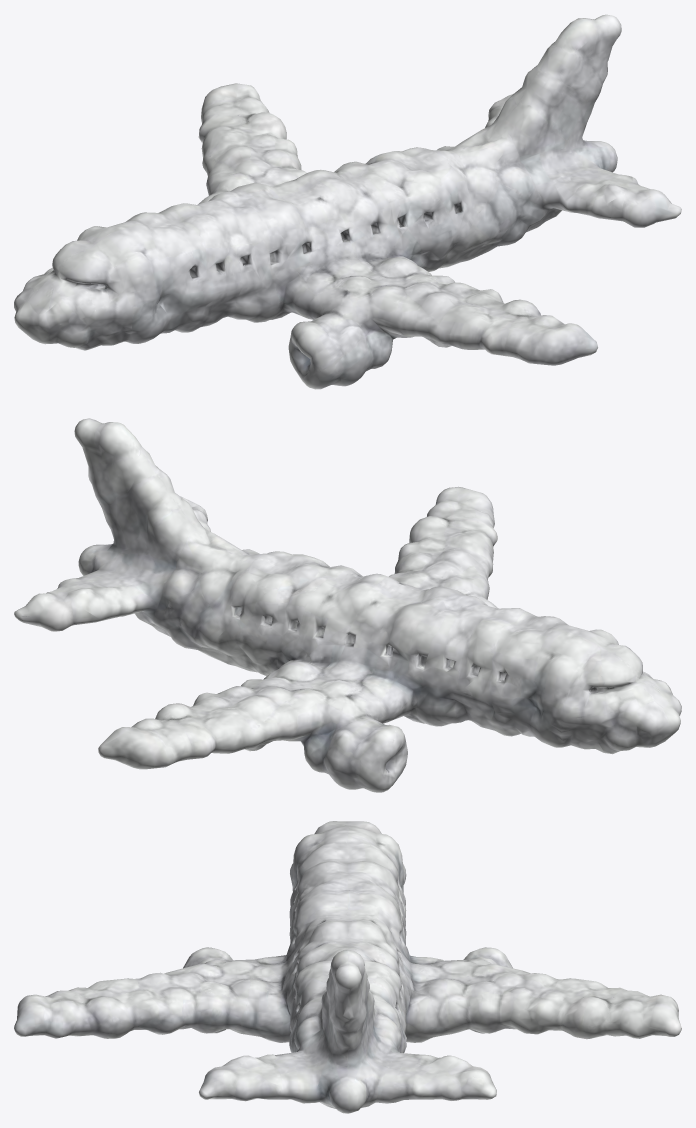
The picture shows the model from 3 angles, top to bottom: view 1: azimuth 30°, elevation 25°; view 2: azimuth 150°, elevation 25°; view 3: azimuth 270°, elevation 25°; orthographic projection. The views are drawn at different scales.
Bounding box in the file's own units: 1.88 × 0.6973 × 1.9.
Materials: 1 (1 with a texture image).
